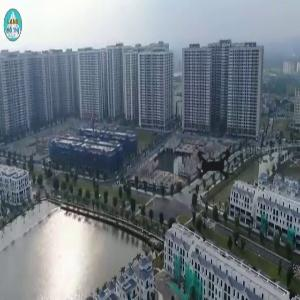drone: (172, 121, 257, 206)
